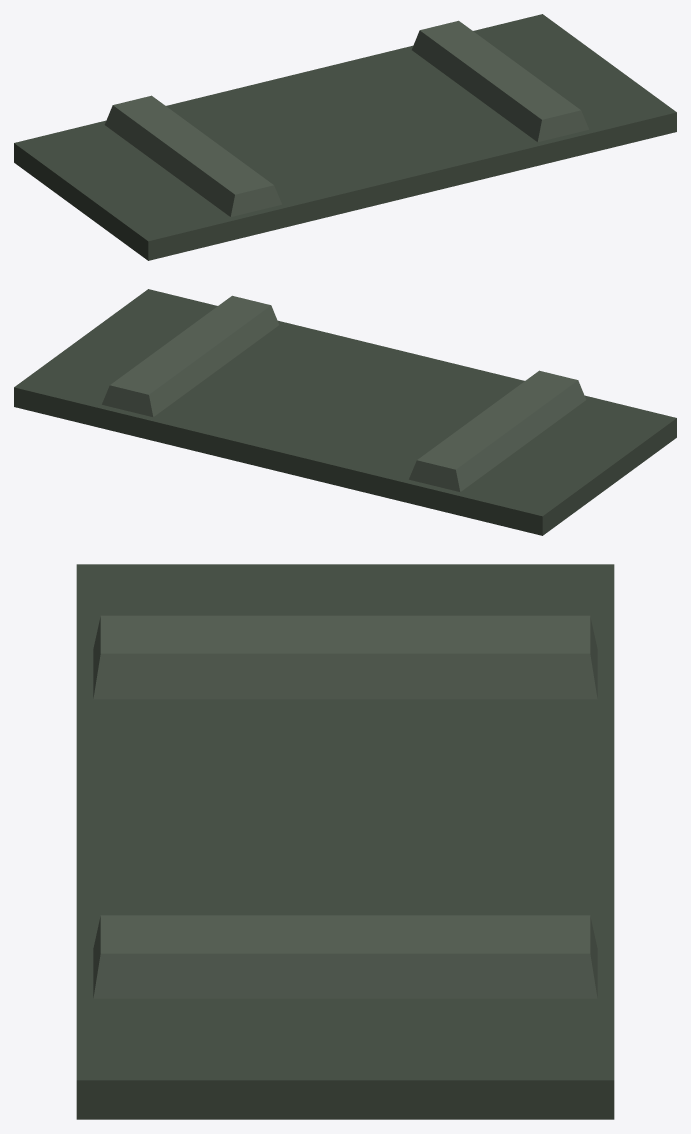
The model's file is SM_Prop_Crate_Ammo_Lid_02.glb.
3 views of the same model, one above another, from view 1: azimuth 30°, elevation 25°; view 2: azimuth 150°, elevation 25°; view 3: azimuth 270°, elevation 25° (orthographic). The views are drawn at different scales.
Visible parts, largest first — view 1: SM_Prop_Crate_Ammo_Lid_02; view 2: SM_Prop_Crate_Ammo_Lid_02; view 3: SM_Prop_Crate_Ammo_Lid_02.
Boxes of the visible parts, box(x1,y1,x2,y2) form: SM_Prop_Crate_Ammo_Lid_02: box(14, 14, 676, 260); SM_Prop_Crate_Ammo_Lid_02: box(14, 289, 676, 535); SM_Prop_Crate_Ammo_Lid_02: box(76, 564, 614, 1119).
Bounding box in the file's own units: 1.13 × 0.0803 × 0.4989.
Materials: 1 (1 with a texture image).
